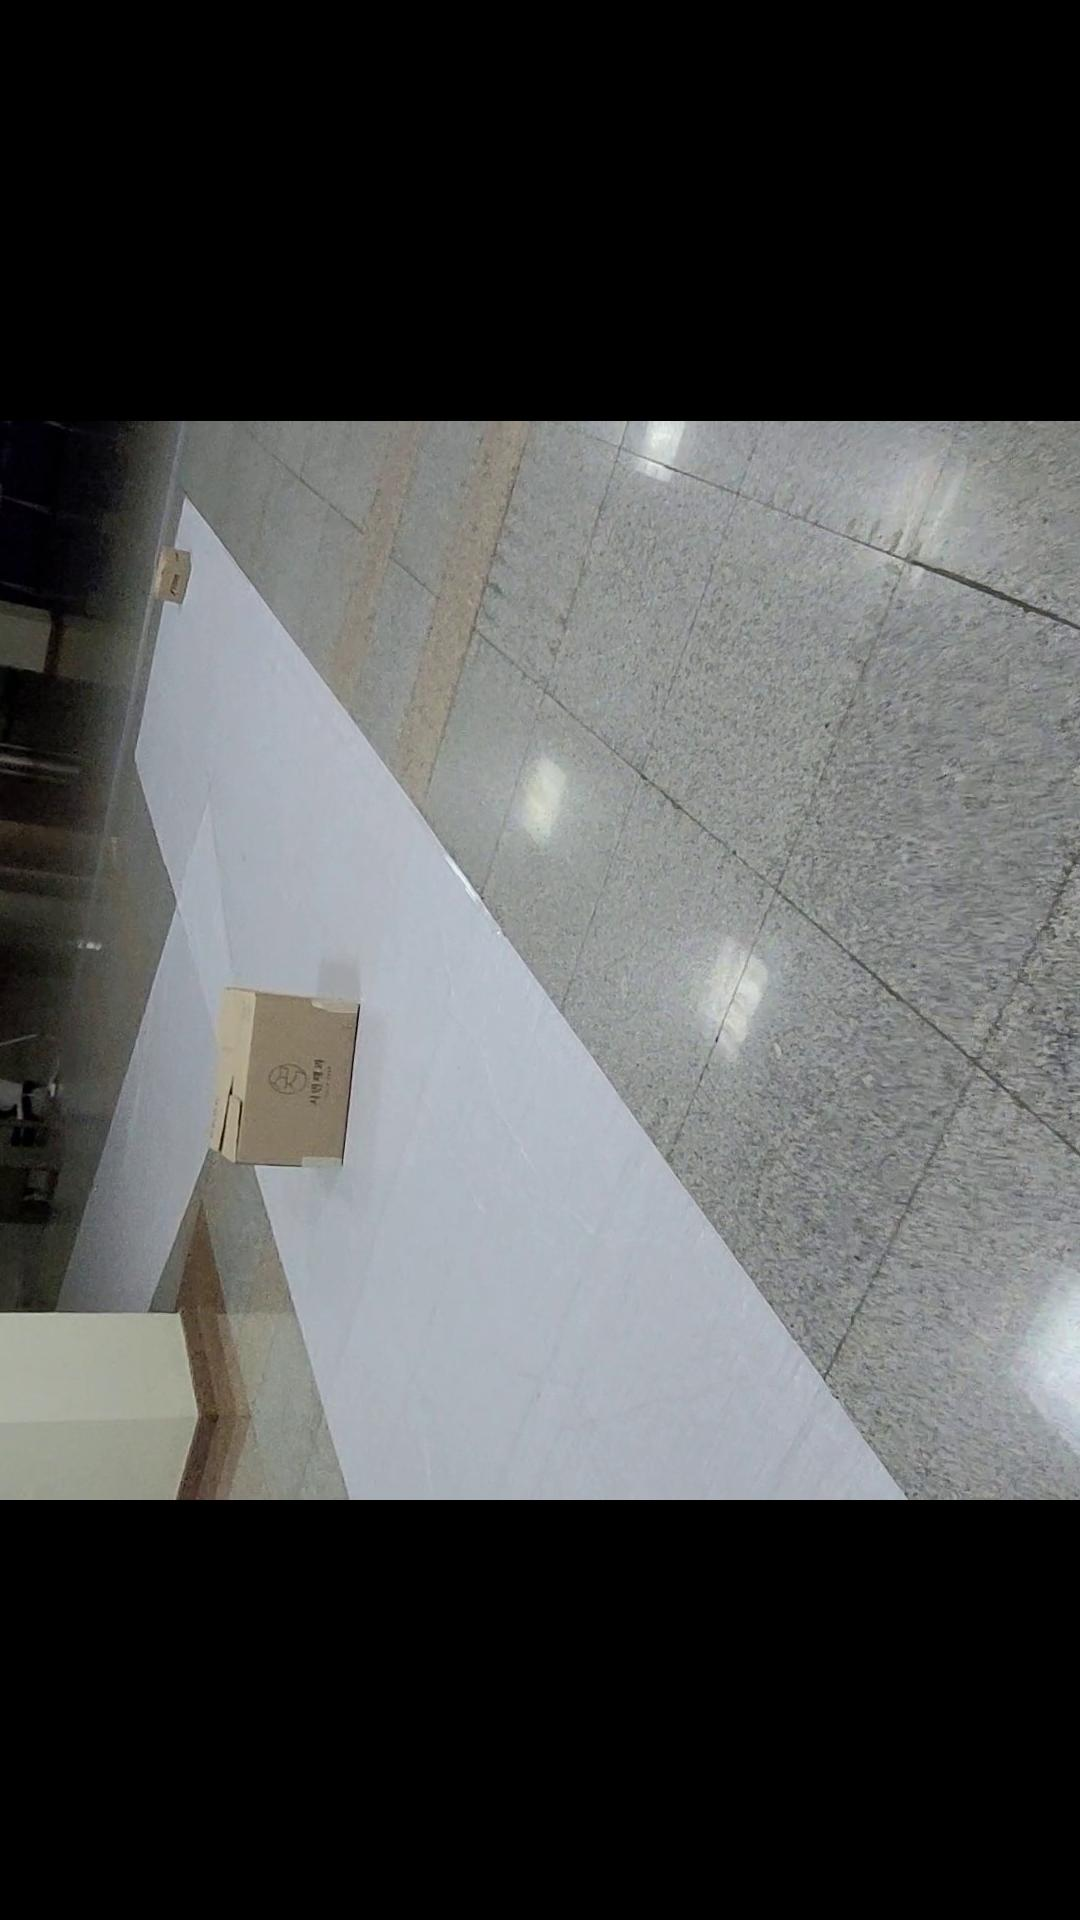Box: (185, 953, 385, 1187), (135, 549, 200, 607)
